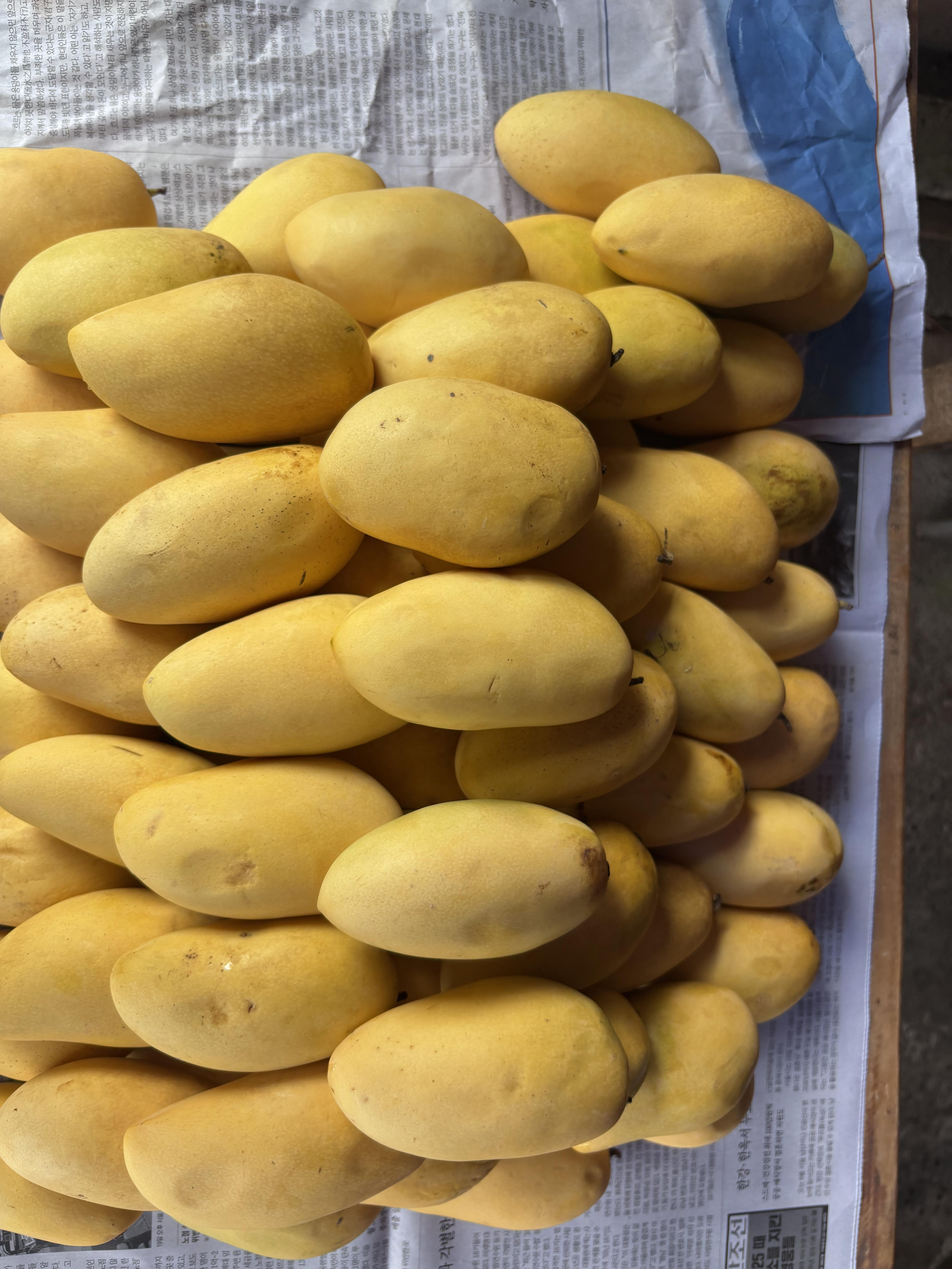mango: (329, 977, 628, 1161), (320, 378, 601, 568), (68, 273, 374, 444), (332, 569, 632, 730), (317, 800, 609, 959), (592, 174, 833, 309)
occluded: (124, 1060, 421, 1231), (83, 444, 363, 624), (114, 756, 402, 919), (111, 916, 398, 1073), (144, 594, 405, 757), (0, 227, 250, 379), (441, 821, 658, 989), (455, 652, 677, 809), (285, 187, 528, 327), (0, 888, 212, 1047), (0, 408, 221, 556), (369, 281, 612, 414), (0, 1057, 210, 1210), (576, 982, 759, 1152), (0, 583, 211, 725), (495, 90, 720, 220), (0, 735, 214, 864), (623, 581, 785, 748), (601, 447, 780, 592), (0, 147, 157, 294), (204, 153, 385, 280), (661, 790, 843, 908), (580, 286, 722, 422), (584, 735, 744, 848), (520, 495, 662, 622), (667, 907, 820, 1023), (654, 318, 803, 437), (690, 429, 839, 548), (716, 225, 868, 334), (0, 808, 139, 926), (411, 1148, 610, 1230), (0, 660, 162, 758), (598, 862, 714, 993), (723, 666, 840, 789), (699, 561, 840, 662), (0, 1157, 142, 1247), (331, 724, 465, 810), (191, 1205, 379, 1260), (507, 214, 629, 294), (0, 515, 82, 631), (0, 339, 104, 415), (586, 988, 650, 1097), (316, 535, 427, 597), (366, 1159, 498, 1209), (0, 1038, 112, 1081), (391, 954, 441, 1001), (417, 552, 461, 573)
